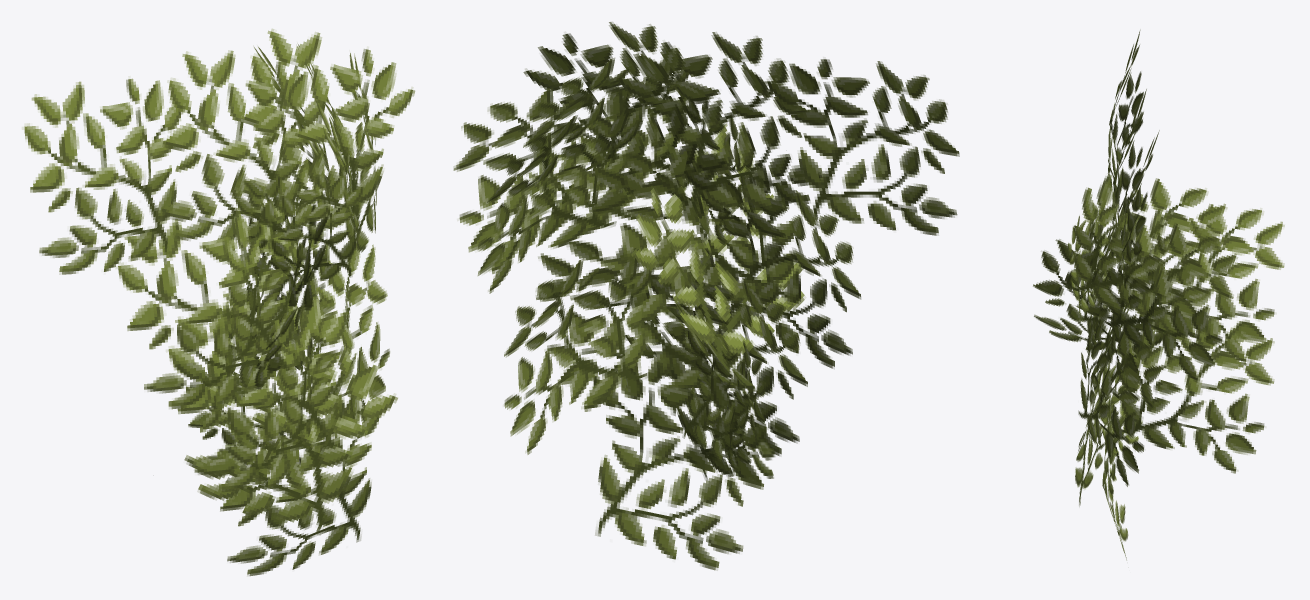
Rendered from vine_corner.glb.
3 renders of one model, left to right at view 1: azimuth 30°, elevation 25°; view 2: azimuth 150°, elevation 25°; view 3: azimuth 270°, elevation 25°, orthographic. The views are drawn at different scales.
Parts seen in each view (by area): view 1: vine_corner; view 2: vine_corner; view 3: vine_corner.
Part boxes in pixels (<box>): vine_corner: <box>22,29,414,575</box>; vine_corner: <box>453,22,959,570</box>; vine_corner: <box>1033,30,1284,560</box>.
Size of the model in its own units: 1.25 by 1.52 by 0.8863.
Materials: 1 (1 with a texture image).
